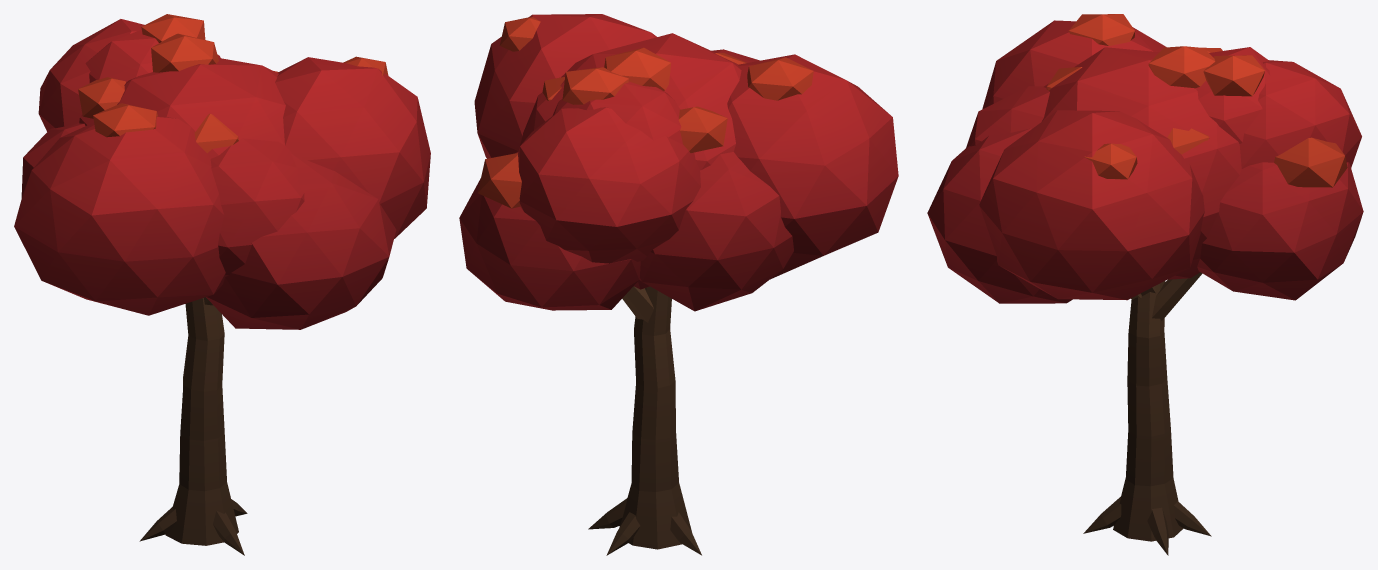
File: tree_autumn_maple_01.fbx
3 views of the same model, side by side, from view 1: azimuth 30°, elevation 25°; view 2: azimuth 150°, elevation 25°; view 3: azimuth 270°, elevation 25° (orthographic). The views are drawn at different scales.
Visible parts, largest first — view 1: tree_autumn_maple_01_LOD0; view 2: tree_autumn_maple_01_LOD0; view 3: tree_autumn_maple_01_LOD0.
Part boxes in pixels (x1=…): tree_autumn_maple_01_LOD0: x1=14, y1=14, x2=430, y2=555; tree_autumn_maple_01_LOD0: x1=459, y1=14, x2=898, y2=555; tree_autumn_maple_01_LOD0: x1=927, y1=14, x2=1363, y2=555.
Size of what is drawn, in the model's own units: 3.66 by 4.42 by 3.62.
1 material, 1 textured.
